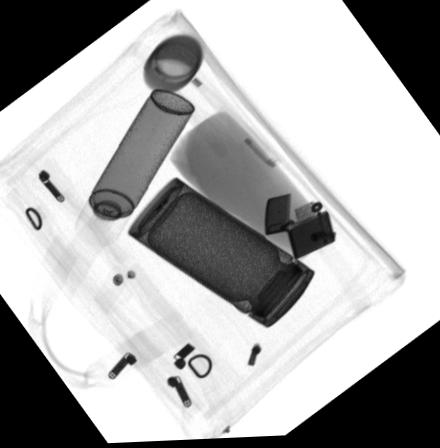Lighter: (264, 194, 335, 260)
Sprayer: (72, 89, 193, 249)
